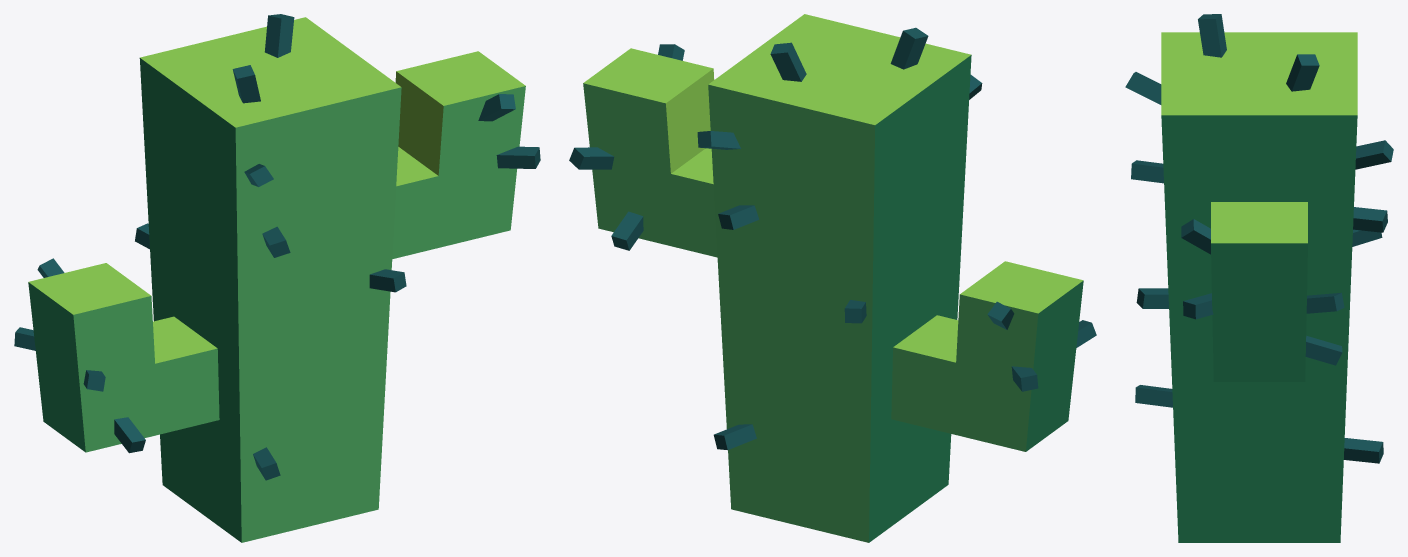
The model's file is cactusL.fbx.
3 renders of one model, left to right at view 1: azimuth 30°, elevation 25°; view 2: azimuth 150°, elevation 25°; view 3: azimuth 270°, elevation 25°, orthographic. The views are drawn at different scales.
Visible parts, largest first — view 1: body, R_arm, L_arm, thorn18, thorn7, thorn5, thorn17, thorn8, thorn1; view 2: body, R_arm, L_arm, thorn17, thorn18, thorn14, thorn13, thorn10, thorn11, thorn12; view 3: body, L_arm, thorn17, thorn18, thorn10, thorn12, thorn11, thorn13, thorn2, thorn8, thorn4, thorn14 (+4 smaller).
Part boxes in pixels (left/top/right/bottom): body: left=139, top=17, right=401, bottom=542; R_arm: left=28, top=263, right=219, bottom=452; L_arm: left=392, top=51, right=525, bottom=258; thorn18: left=264, top=14, right=294, bottom=57; thorn7: left=496, top=146, right=540, bottom=168; thorn5: left=114, top=417, right=145, bottom=453; thorn17: left=232, top=65, right=260, bottom=103; thorn8: left=478, top=94, right=515, bottom=121; thorn1: left=369, top=269, right=406, bottom=292; body: left=708, top=14, right=971, bottom=542; R_arm: left=891, top=261, right=1083, bottom=451; L_arm: left=583, top=48, right=717, bottom=257; thorn17: left=890, top=27, right=928, bottom=69; thorn18: left=770, top=42, right=806, bottom=81; thorn14: left=569, top=147, right=614, bottom=169; thorn13: left=611, top=211, right=643, bottom=250; thorn10: left=713, top=424, right=756, bottom=450; thorn11: left=718, top=205, right=758, bottom=229; thorn12: left=697, top=131, right=740, bottom=149; body: left=1161, top=32, right=1357, bottom=542; L_arm: left=1211, top=202, right=1307, bottom=381; thorn17: left=1198, top=14, right=1226, bottom=57; thorn18: left=1286, top=54, right=1319, bottom=91; thorn10: left=1344, top=438, right=1383, bottom=463; thorn12: left=1355, top=140, right=1393, bottom=169; thorn11: left=1353, top=207, right=1387, bottom=232; thorn13: left=1305, top=335, right=1342, bottom=365; thorn2: left=1135, top=385, right=1172, bottom=407; thorn8: left=1181, top=219, right=1210, bottom=254; thorn4: left=1125, top=72, right=1161, bottom=104; thorn14: left=1306, top=292, right=1344, bottom=313.
Bounding box in the file's own units: 132 × 124 × 64.49.
Materials: 1 (1 with a texture image).
